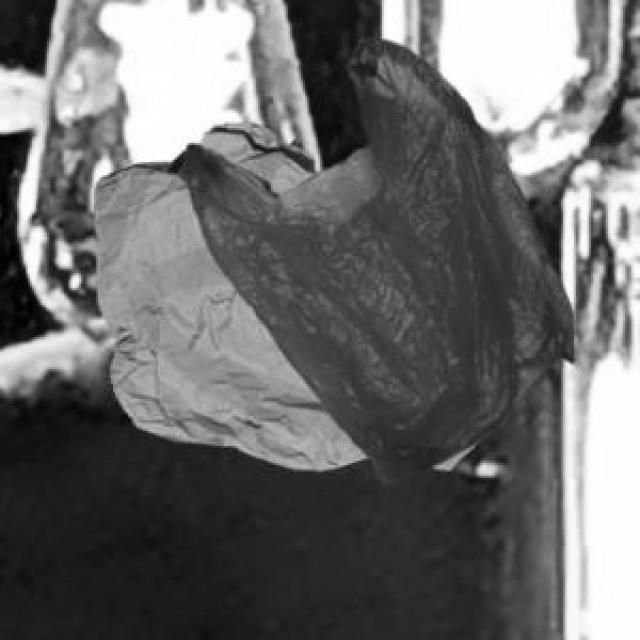paper: (90, 120, 468, 465)
